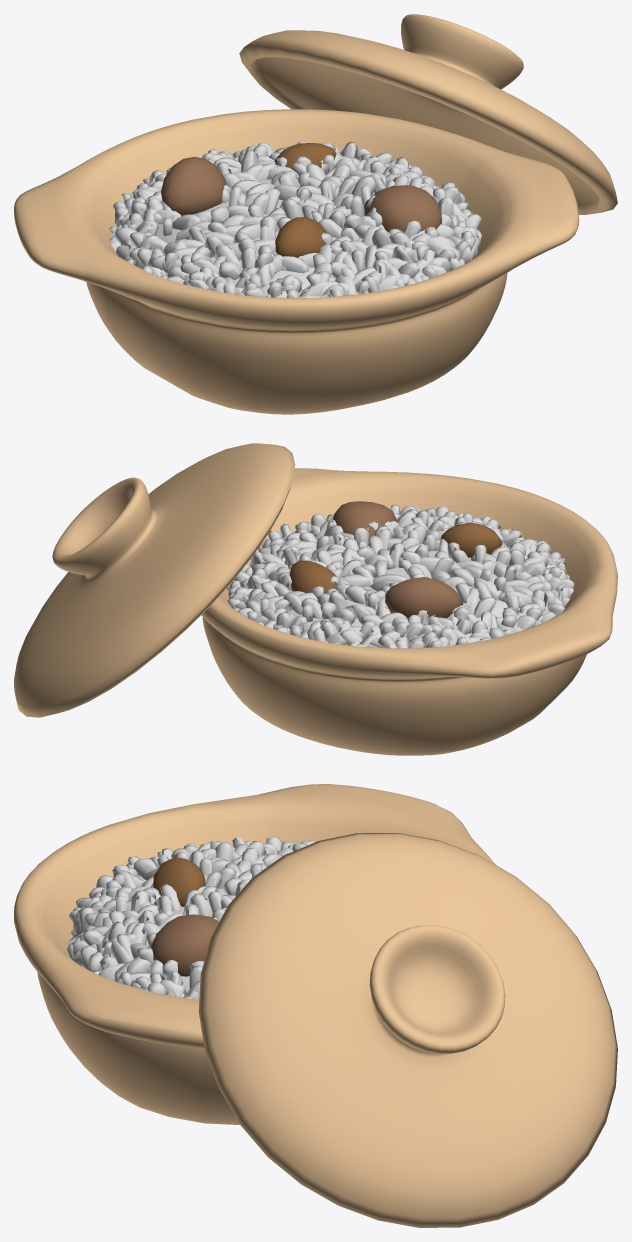
File: platilloArrozyPapas.fbx
3 views of the same model, one above another, from view 1: azimuth 30°, elevation 25°; view 2: azimuth 150°, elevation 25°; view 3: azimuth 270°, elevation 25° (orthographic). The views are drawn at different scales.
Visible parts, largest first — view 1: platilloArrozypapas; view 2: platilloArrozypapas; view 3: platilloArrozypapas.
Boxes of the visible parts, x1,y1,x2,y2 form: platilloArrozypapas: [14, 14, 617, 414]; platilloArrozypapas: [14, 443, 617, 755]; platilloArrozypapas: [14, 784, 617, 1227].
Bounding box in the file's own units: 99.67 × 44.05 × 83.41.
